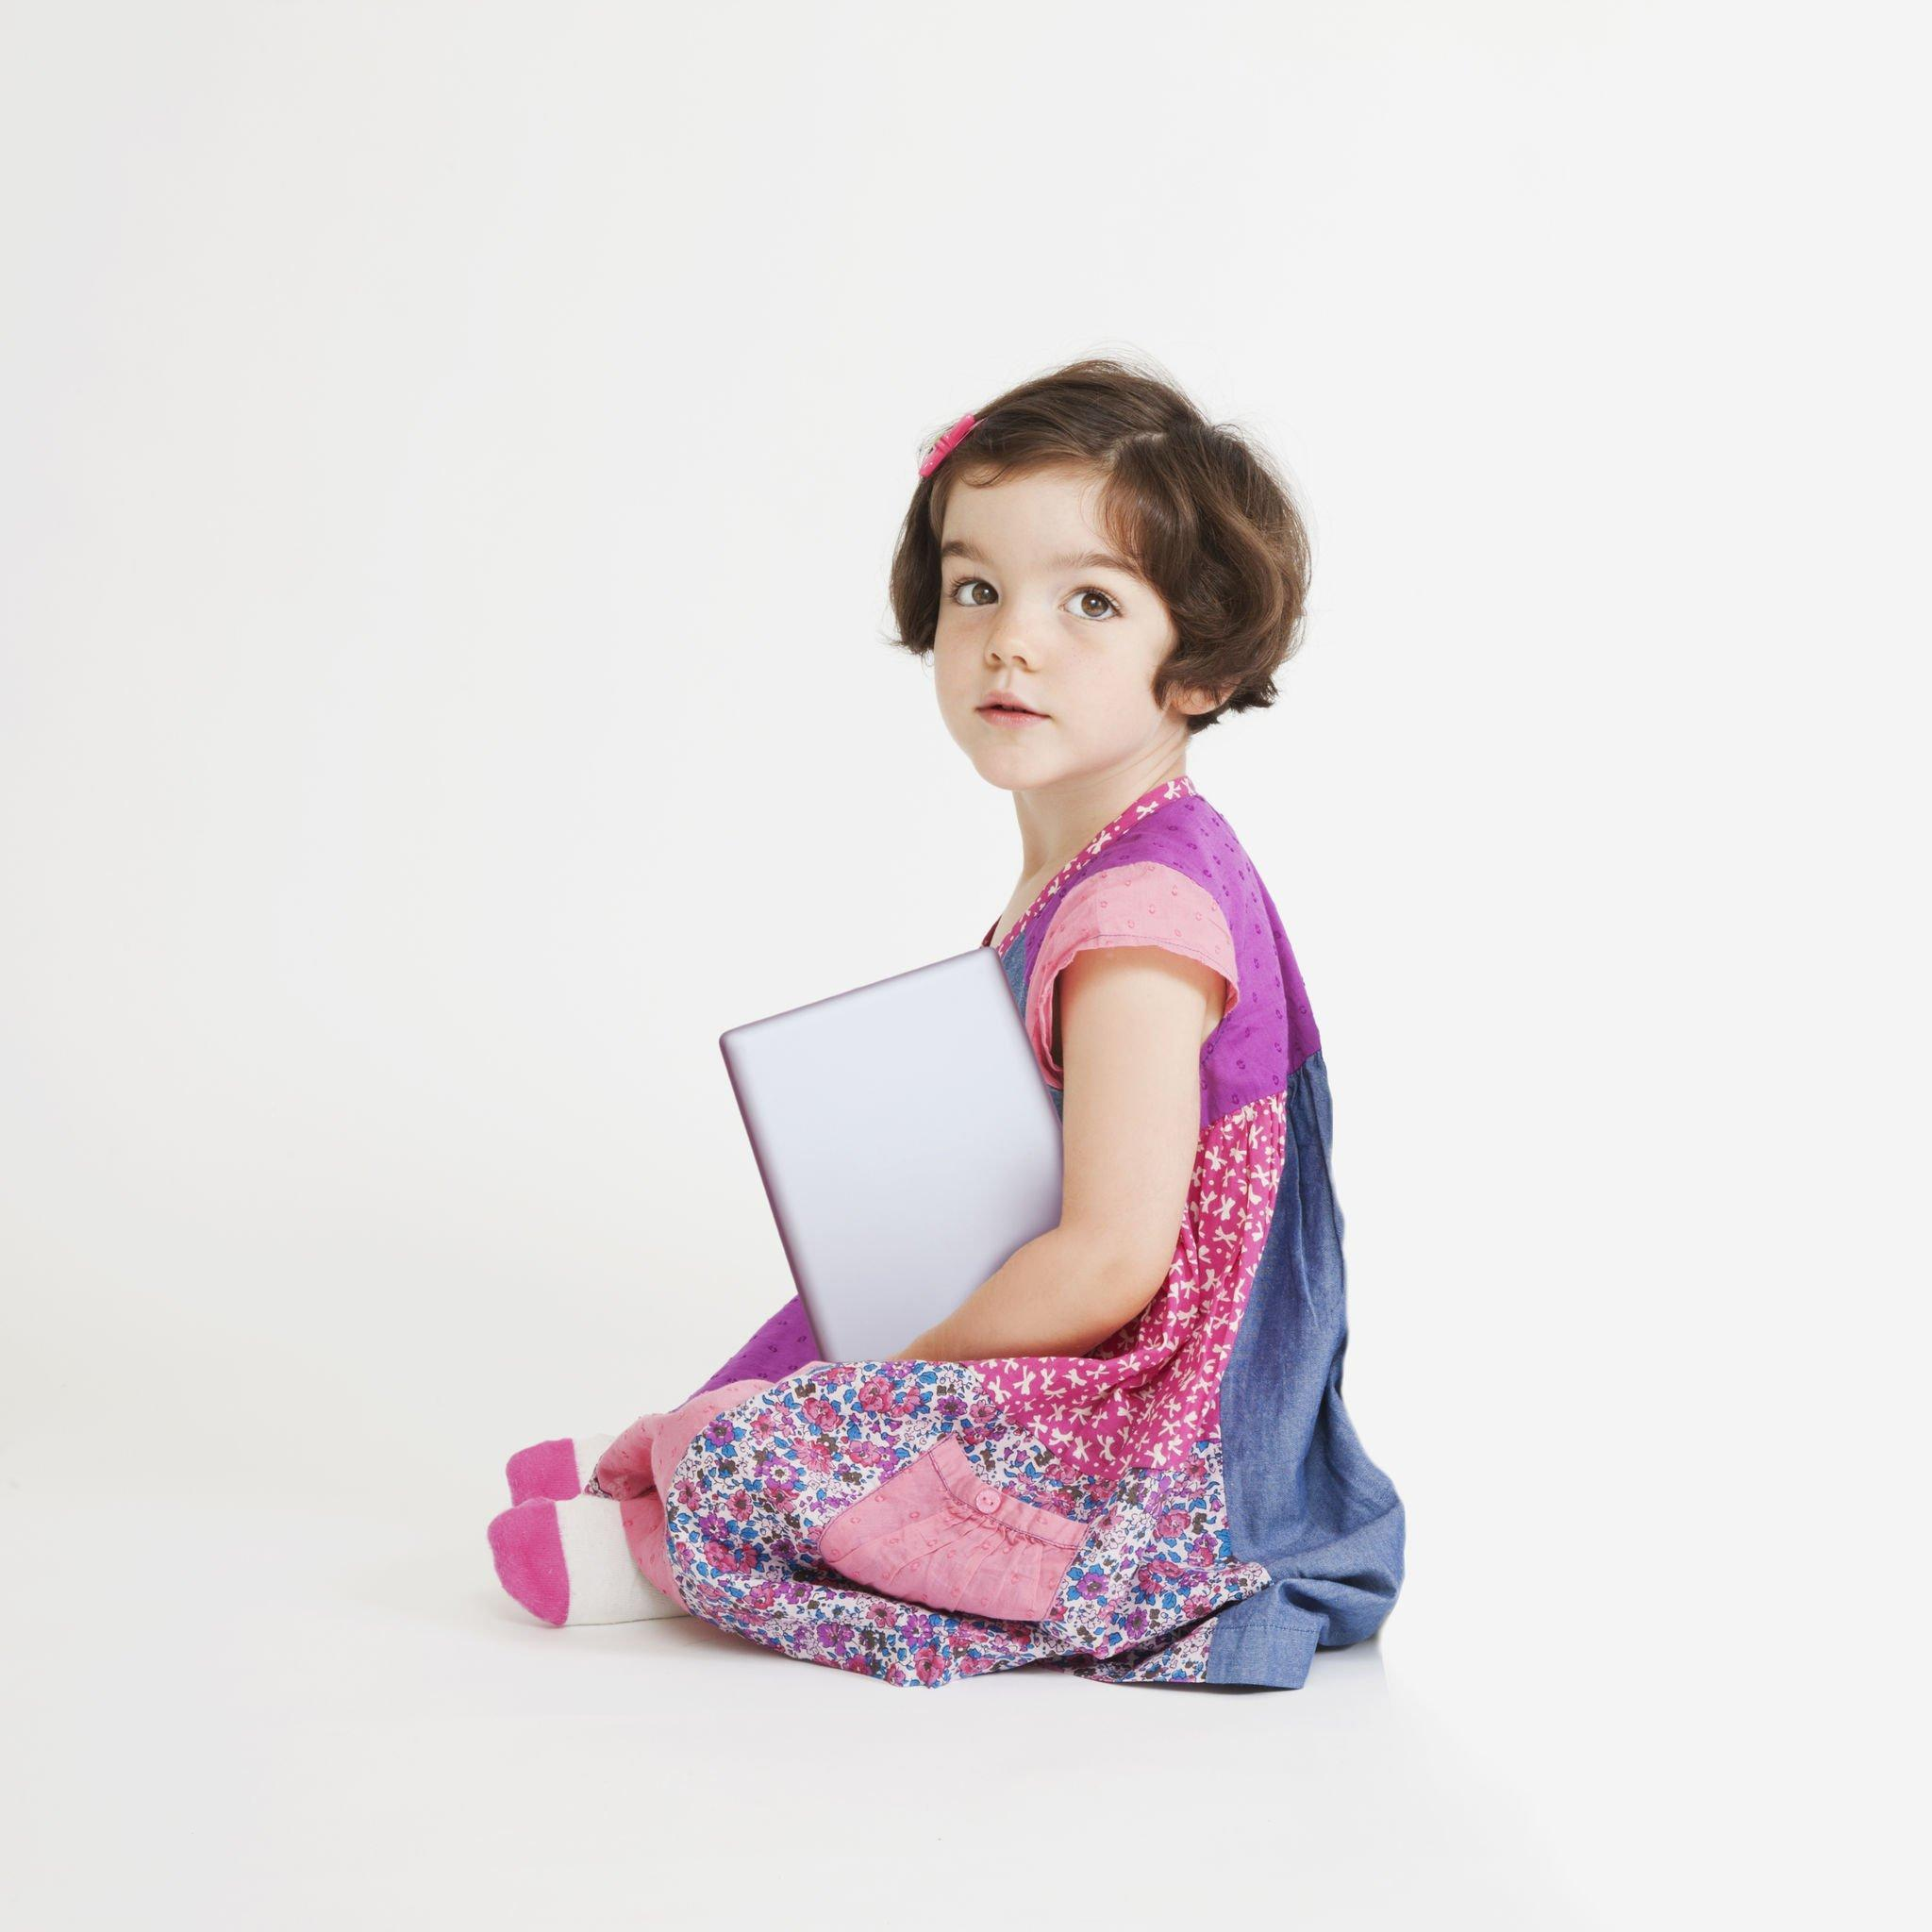Healthy: (916, 430, 1223, 807)
